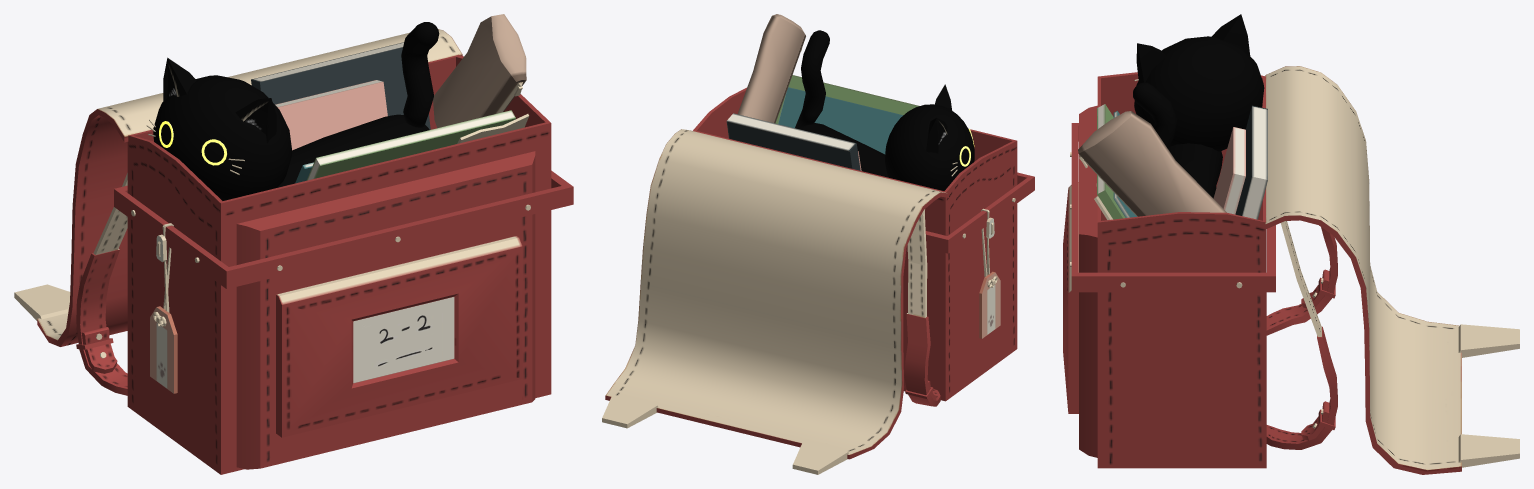
Rendered from pfp.glb.
The picture shows the model from 3 angles, left to right: view 1: azimuth 30°, elevation 25°; view 2: azimuth 150°, elevation 25°; view 3: azimuth 270°, elevation 25°; orthographic projection. The views are drawn at different scales.
Visible parts, largest first — view 1: _____polySurface59; view 2: _____polySurface59; view 3: _____polySurface59.
Part boxes in pixels (box(x1,y1,x2,y2)): _____polySurface59: box(14, 14, 573, 474); _____polySurface59: box(602, 14, 1034, 474); _____polySurface59: box(1063, 14, 1519, 474).
Bounding box in the file's own units: 9.54 × 9.55 × 11.53.
11 materials, 11 textured.
